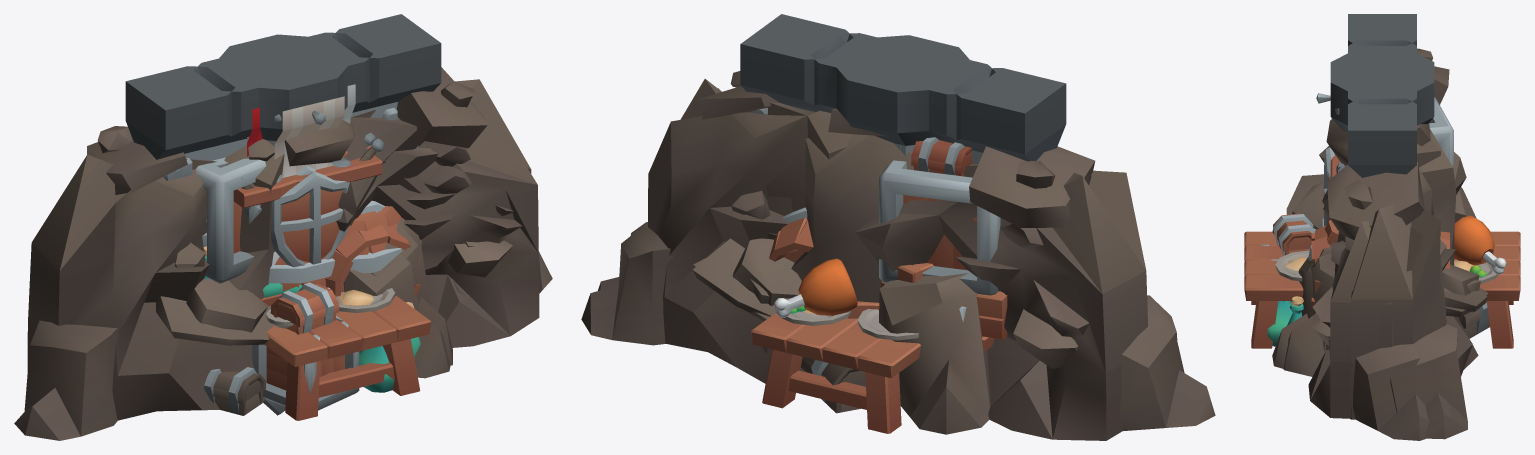
The model's file is dungeon.glb.
The picture shows the model from 3 angles, left to right: view 1: azimuth 30°, elevation 25°; view 2: azimuth 150°, elevation 25°; view 3: azimuth 270°, elevation 25°; orthographic projection. The views are drawn at different scales.
Visible parts, largest first — view 1: rubble_large, wall_arched, box_stacked, rubble_half, table_long_decorated_A, pillar_decorated, wall_pillar, keg_decorated, shelves, wall, barrel_large, banner_patternA_red (+1 smaller); view 2: rubble_large, rubble_half, table_long_decorated_A, wall_arched, wall_pillar, box_stacked, wall, keg_decorated, pillar, crates_stacked; view 3: rubble_half, rubble_large, table_long_decorated_A, wall_arched, box_stacked, wall, wall_pillar, pillar_decorated, keg_decorated, pillar.
Boxes of the visible parts, x1,y1,x2,y2 form: rubble_large: (14, 103, 552, 440); wall_arched: (125, 14, 441, 180); box_stacked: (196, 158, 420, 415); rubble_half: (338, 67, 531, 365); table_long_decorated_A: (264, 284, 430, 420); pillar_decorated: (228, 53, 384, 267); wall_pillar: (164, 34, 368, 146); keg_decorated: (202, 200, 421, 297); shelves: (233, 155, 382, 305); wall: (132, 33, 369, 167); barrel_large: (268, 255, 334, 291); banner_patternA_red: (247, 84, 355, 156); rubble_large: (598, 88, 1215, 440); rubble_half: (581, 71, 852, 383); table_long_decorated_A: (751, 258, 920, 433); wall_arched: (741, 14, 1066, 160); wall_pillar: (740, 35, 1027, 161); box_stacked: (800, 137, 1000, 413); wall: (740, 34, 1050, 163); keg_decorated: (769, 207, 1007, 351); pillar: (846, 37, 960, 137); crates_stacked: (847, 263, 933, 318); rubble_half: (1283, 140, 1486, 439); rubble_large: (1272, 48, 1488, 440); table_long_decorated_A: (1244, 215, 1520, 348); wall_arched: (1348, 14, 1416, 177); box_stacked: (1256, 97, 1489, 346); wall: (1348, 98, 1416, 177); wall_pillar: (1330, 53, 1434, 171); pillar_decorated: (1316, 71, 1434, 226); keg_decorated: (1311, 225, 1449, 307); pillar: (1330, 58, 1434, 85).
Bounding box in the file's own units: 8.13 × 4.79 × 4.
Materials: 1 (1 with a texture image).
